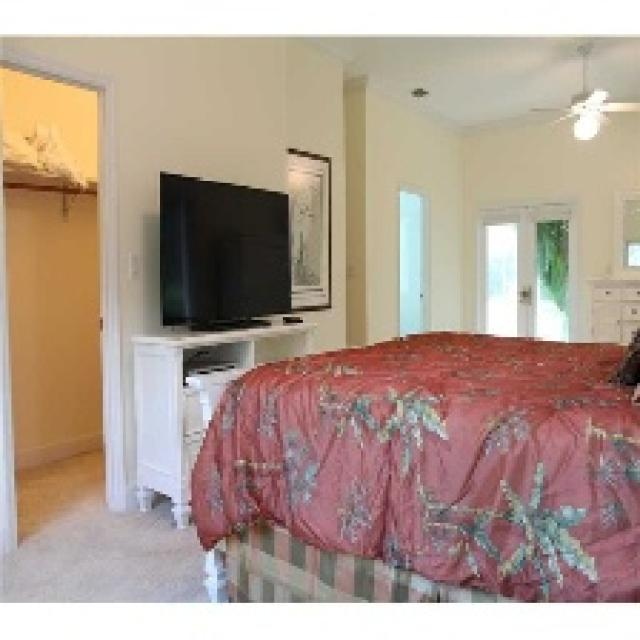Bed: (189, 326, 637, 603)
